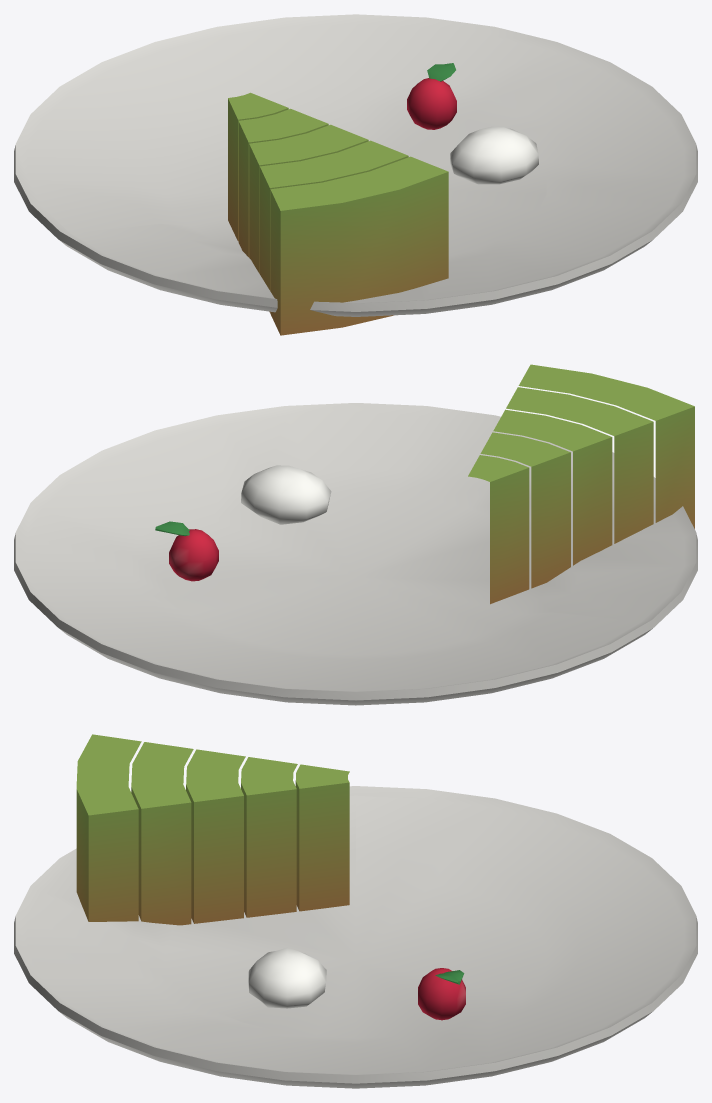
File: dish-matcha-cheesecake-lod1.glb
The picture shows the model from 3 angles, top to bottom: view 1: azimuth 30°, elevation 25°; view 2: azimuth 150°, elevation 25°; view 3: azimuth 270°, elevation 25°; orthographic projection.
Visible parts, largest first — view 1: matcha-cheesecake.lod1__table porcelain, matcha-cheesecake.lod1__food, matcha-cheesecake.lod1__food glaze; view 2: matcha-cheesecake.lod1__table porcelain, matcha-cheesecake.lod1__food, matcha-cheesecake.lod1__food glaze; view 3: matcha-cheesecake.lod1__table porcelain, matcha-cheesecake.lod1__food, matcha-cheesecake.lod1__food glaze.
Part boxes in pixels (left/top/right/bottom): matcha-cheesecake.lod1__table porcelain: left=14, top=14, right=697, bottom=316; matcha-cheesecake.lod1__food: left=228, top=63, right=455, bottom=335; matcha-cheesecake.lod1__food glaze: left=407, top=78, right=538, bottom=184; matcha-cheesecake.lod1__table porcelain: left=14, top=403, right=697, bottom=705; matcha-cheesecake.lod1__food: left=155, top=364, right=694, bottom=604; matcha-cheesecake.lod1__food glaze: left=169, top=465, right=331, bottom=581; matcha-cheesecake.lod1__table porcelain: left=14, top=786, right=697, bottom=1088; matcha-cheesecake.lod1__food: left=76, top=734, right=464, bottom=984; matcha-cheesecake.lod1__food glaze: left=248, top=947, right=465, bottom=1020.
Bounding box in the file's own units: 0.2 × 0.05 × 0.1989.
